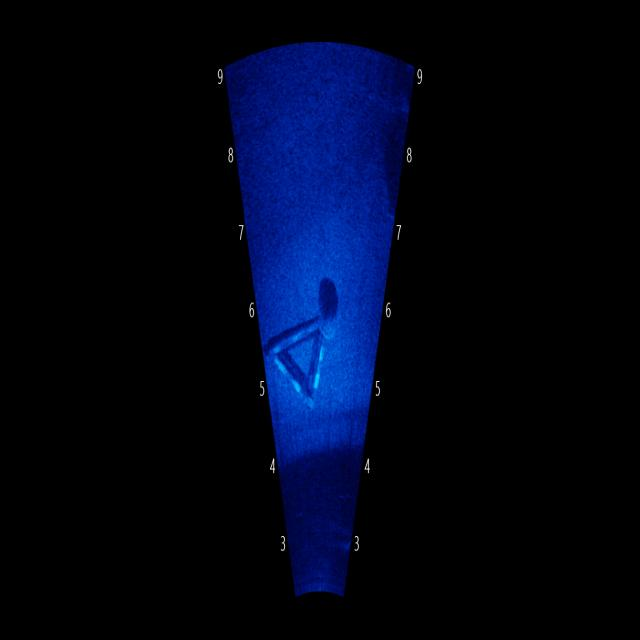triangle: (269, 254, 337, 416)
